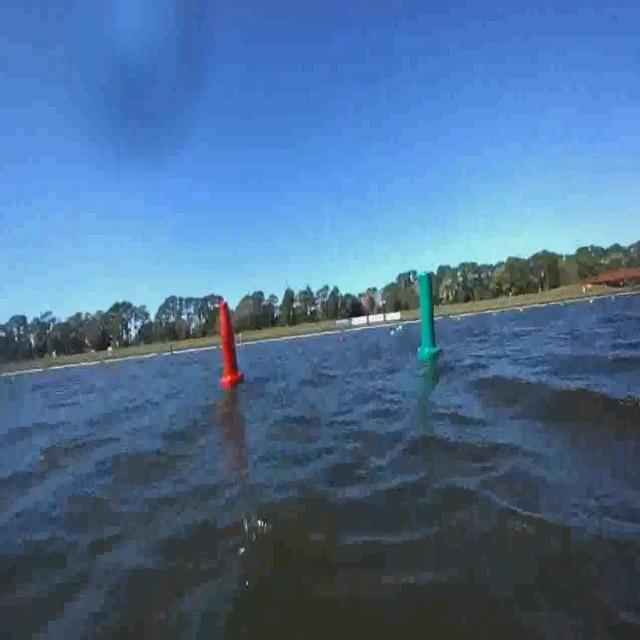green-column-buoy: (417, 270, 441, 360)
red-column-buoy: (219, 299, 244, 388)
